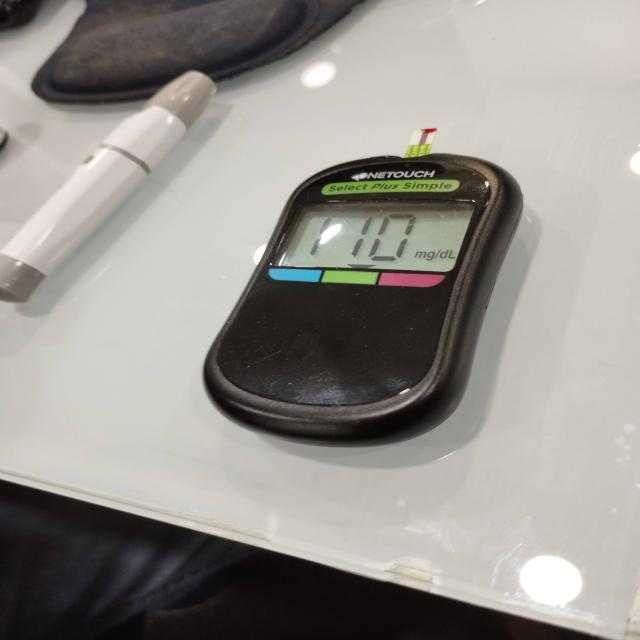gluco: (201, 146, 526, 449)
